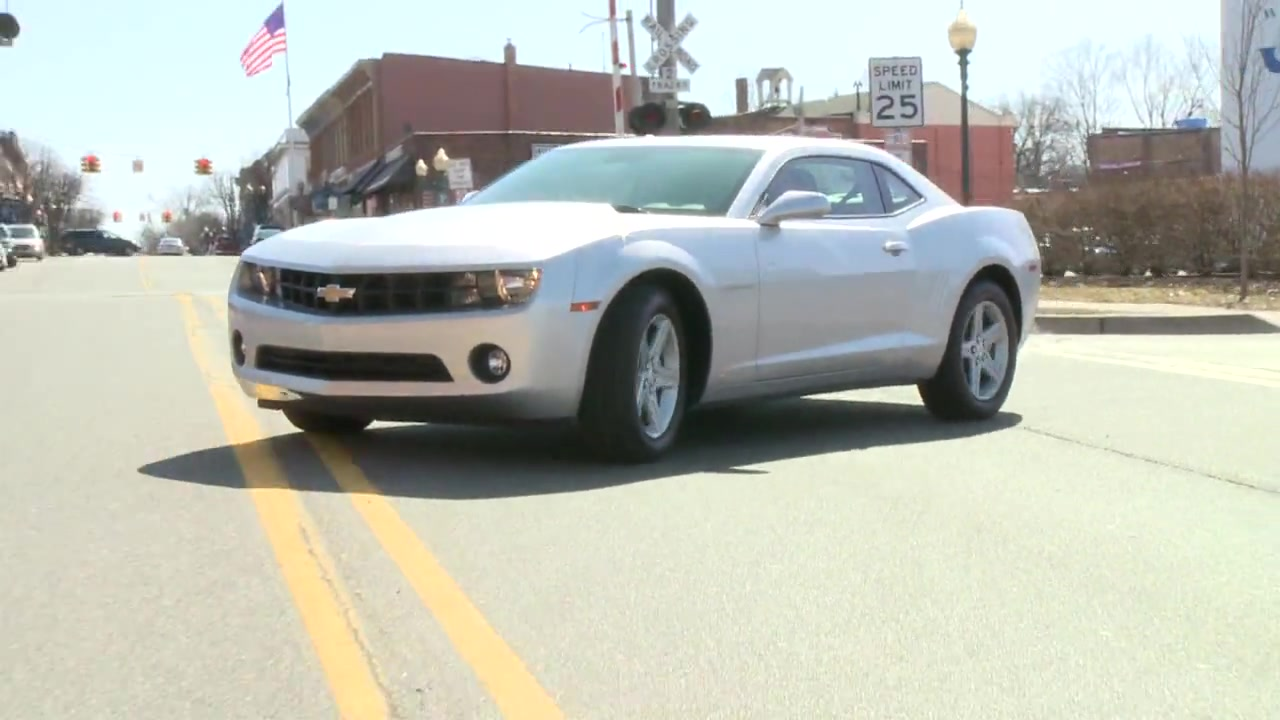car: (223, 130, 1055, 450)
